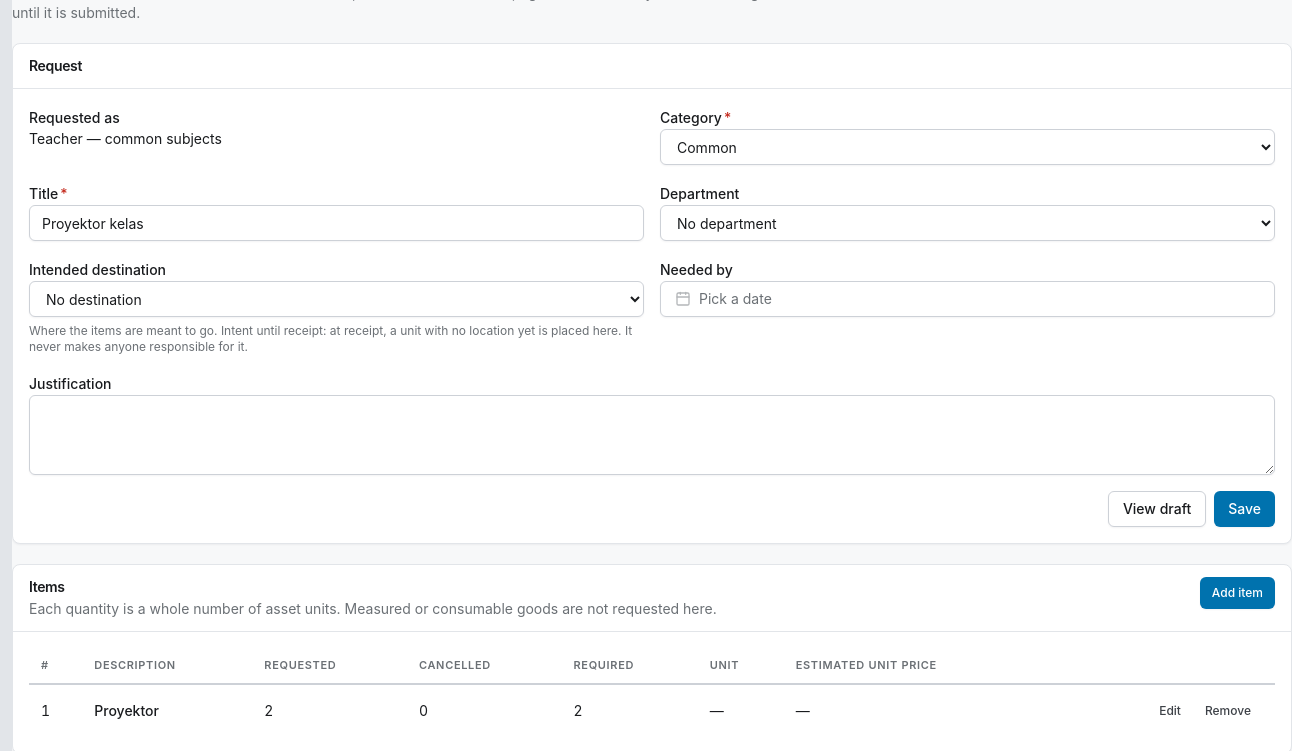
Test case: the form — editing a draft and its items › holds Submit back while the form has unsaved changes
The width and height of the screenshot is (1292, 751).
Type " baru" into the field labelled "Title*" at (336, 223), box [29,205,644,241]
(page scrolled)
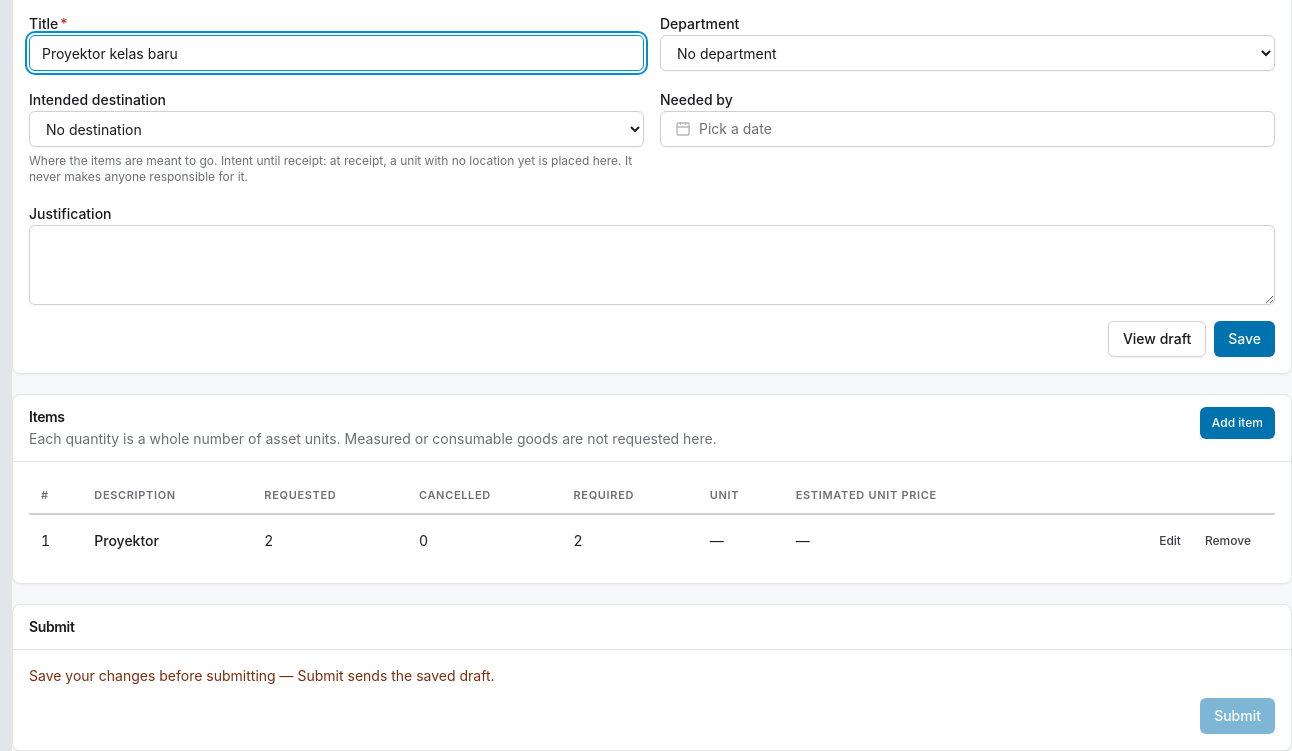
Check: the text "Save your changes before submitting" is shown, box [29,667,494,684]
Check: the button "Submit" is disabled, box [1200,698,1275,734]
